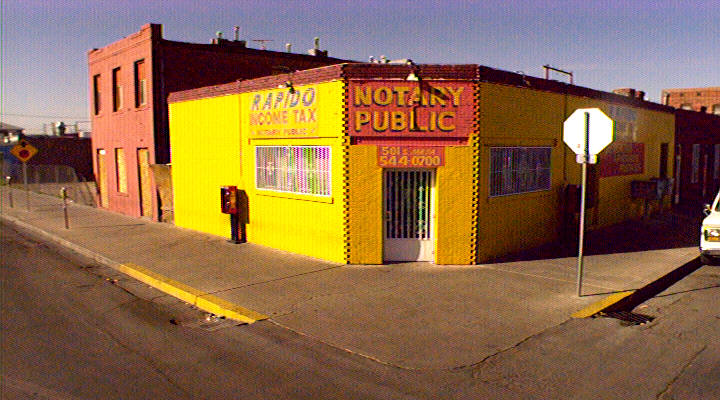Ramp: (231, 267, 623, 383)
